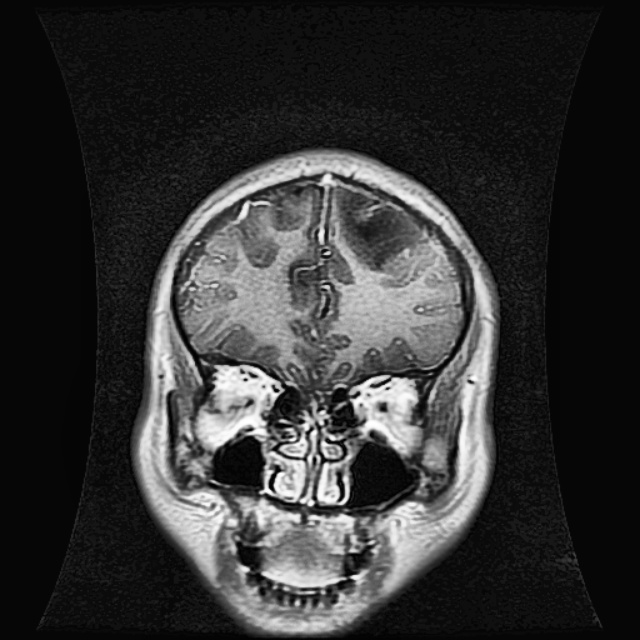Meningioma: (330, 185, 420, 264)
